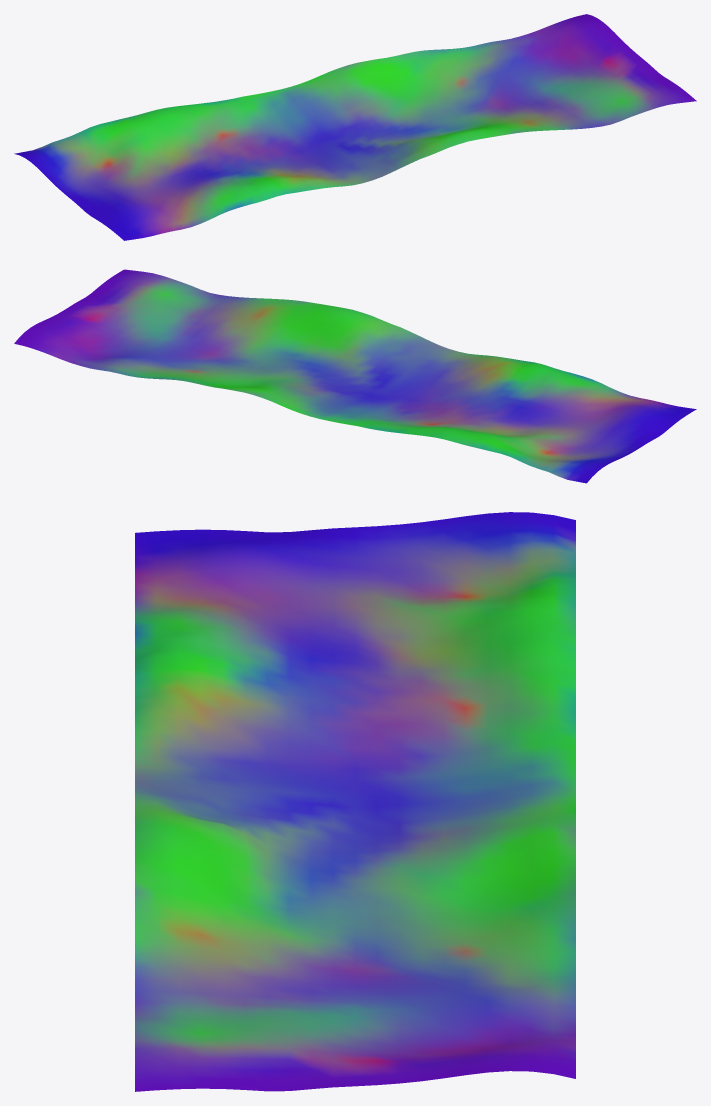
File: backup_terrain_01.fbx
3 renders of one model, top to bottom at view 1: azimuth 30°, elevation 25°; view 2: azimuth 150°, elevation 25°; view 3: azimuth 270°, elevation 25°, orthographic. The views are drawn at different scales.
Parts seen in each view (by area): view 1: terrain; view 2: terrain; view 3: terrain.
Part boxes in pixels (box(x1,y1,x2,y2)): terrain: box(14, 14, 696, 240); terrain: box(14, 269, 696, 483); terrain: box(135, 512, 575, 1091).
Bounding box in the file's own units: 60 × 2.76 × 20.
